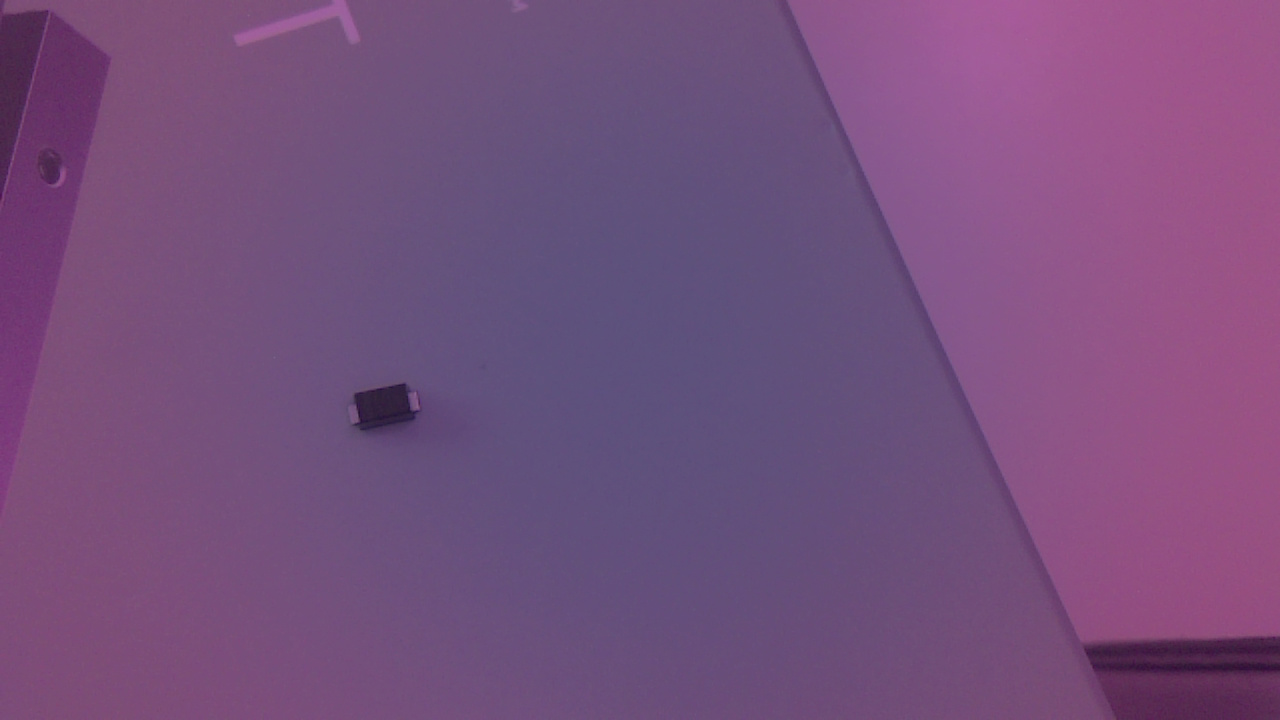Diode: (344, 381, 436, 437)
